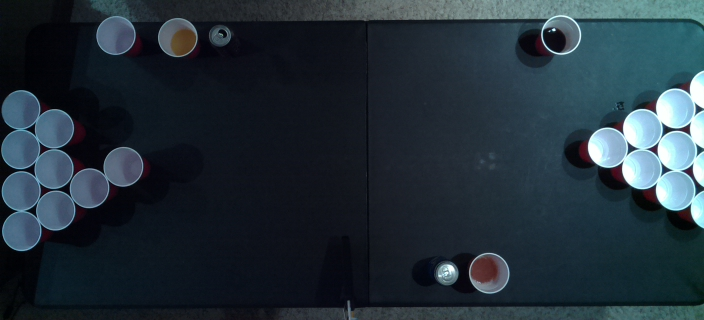active bp cup: (621, 107, 664, 150), (586, 126, 629, 168), (620, 149, 663, 191), (102, 145, 144, 187), (655, 87, 697, 129), (34, 190, 77, 231), (68, 168, 110, 209), (1, 210, 42, 252), (654, 170, 696, 211), (33, 148, 74, 189), (1, 170, 42, 211), (656, 129, 697, 170), (33, 109, 75, 149), (0, 129, 40, 169), (1, 90, 41, 129), (687, 110, 703, 149), (688, 149, 703, 188), (689, 68, 703, 109), (690, 187, 702, 229)
can: (432, 257, 459, 286), (206, 22, 233, 48)
drink cup: (468, 251, 510, 294), (156, 16, 199, 57), (538, 14, 582, 54)
inactive bp cup: (95, 14, 137, 56)
